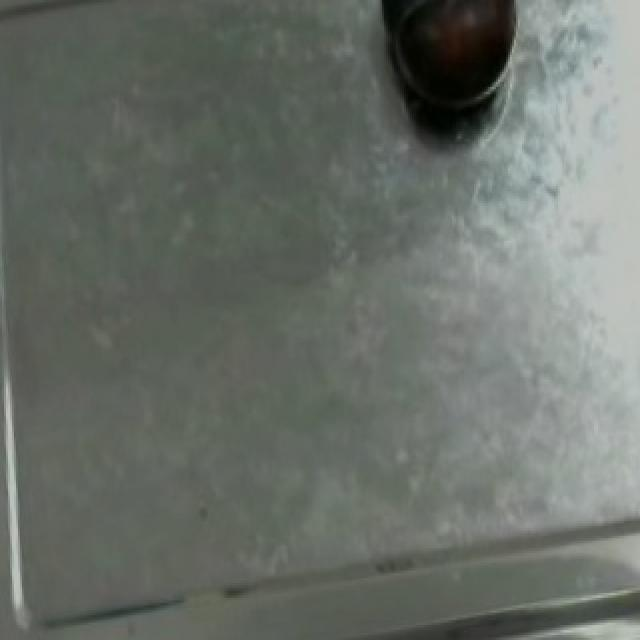Fruit: (382, 0, 540, 131)
